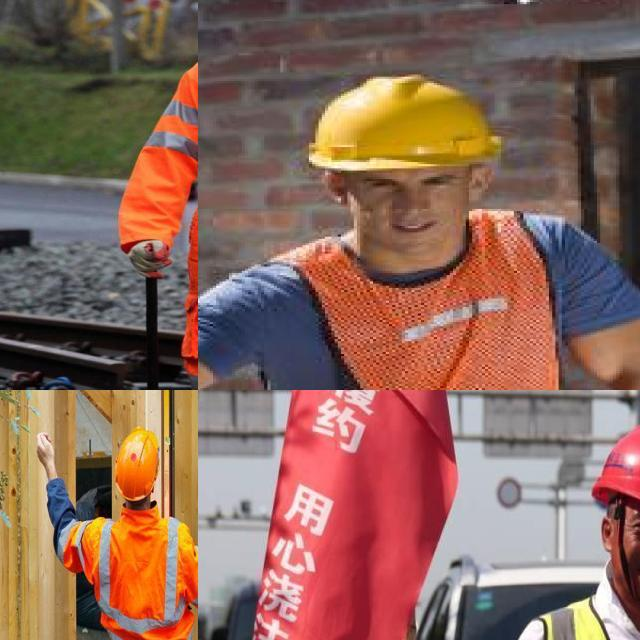No_Ear-Protection: (319, 169, 352, 204), (599, 507, 618, 558), (468, 167, 492, 203)
No_Glasses: (356, 170, 466, 192), (622, 504, 640, 550)
face_nomask: (351, 201, 468, 254), (607, 498, 640, 602)
hand_glove: (122, 234, 174, 278)
hand_noglove: (31, 426, 64, 477)
head_helmet: (293, 72, 512, 176), (590, 422, 640, 518), (114, 425, 161, 500)
person: (35, 426, 198, 640), (501, 419, 640, 640), (120, 0, 198, 390)
vest: (91, 508, 196, 640)
